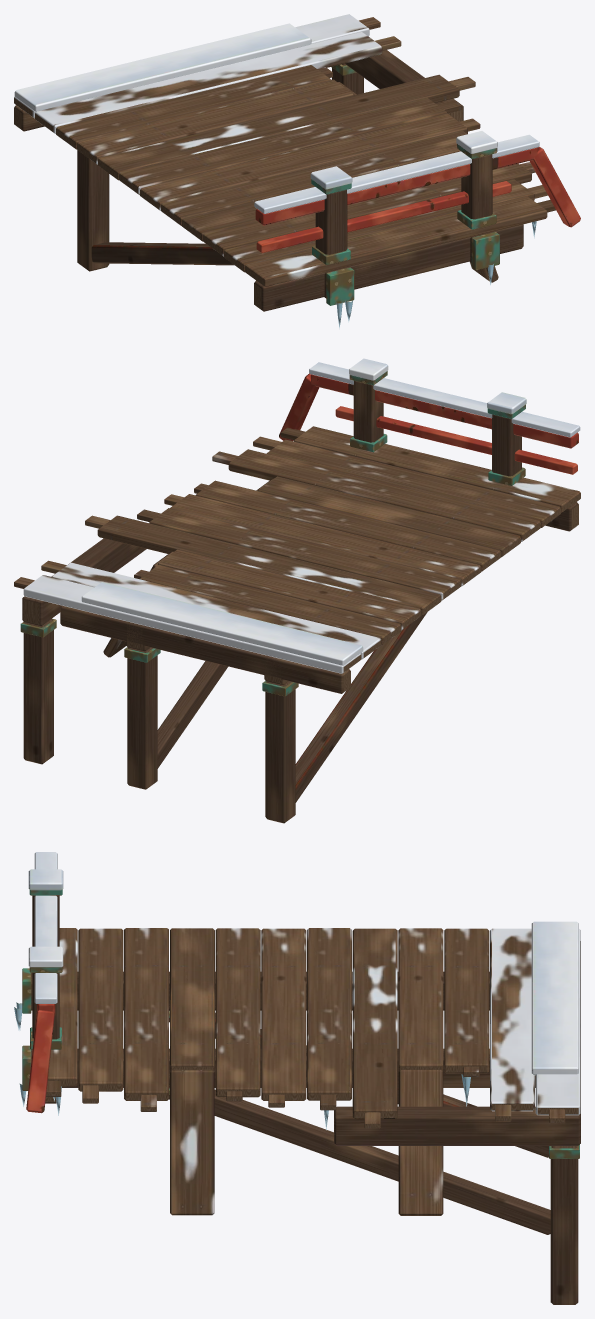
The model's file is SM_Tripo_FrostPlankRoadBroken.glb.
The picture shows the model from 3 angles, top to bottom: view 1: azimuth 30°, elevation 25°; view 2: azimuth 150°, elevation 25°; view 3: azimuth 270°, elevation 25°; orthographic projection. The views are drawn at different scales.
Visible parts, largest first — view 1: SM_Tripo_FrostPlankRoadBroken_LOD0; view 2: SM_Tripo_FrostPlankRoadBroken_LOD0; view 3: SM_Tripo_FrostPlankRoadBroken_LOD0.
Part boxes in pixels (box(x1,y1,x2,y2)): SM_Tripo_FrostPlankRoadBroken_LOD0: box(14, 14, 580, 329); SM_Tripo_FrostPlankRoadBroken_LOD0: box(14, 358, 580, 823); SM_Tripo_FrostPlankRoadBroken_LOD0: box(14, 852, 580, 1304).
Bounding box in the file's own units: 5 × 3.49 × 6.2.
Materials: 1 (1 with a texture image).
